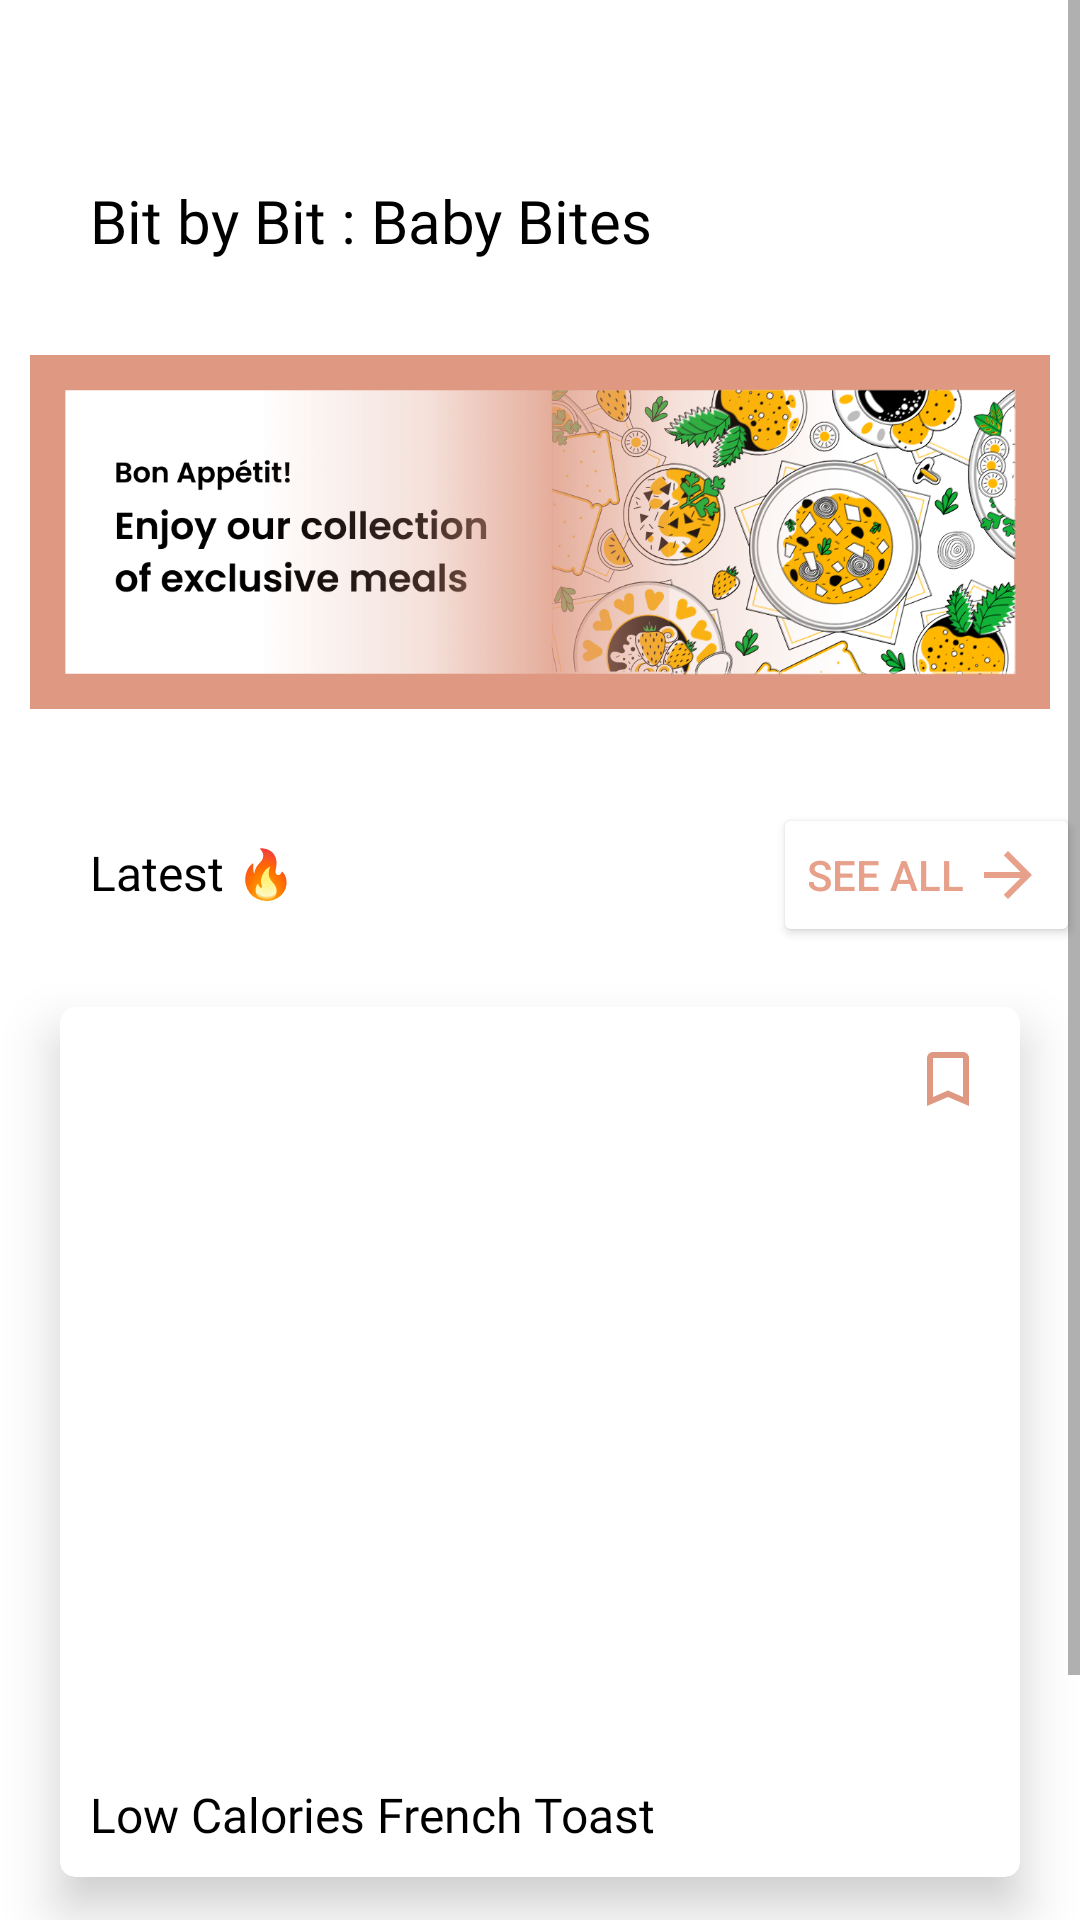

Where to tap for icons on this 1080×1920 app screen, as (x,y):
pastelred bookmark border: (948,1079)
